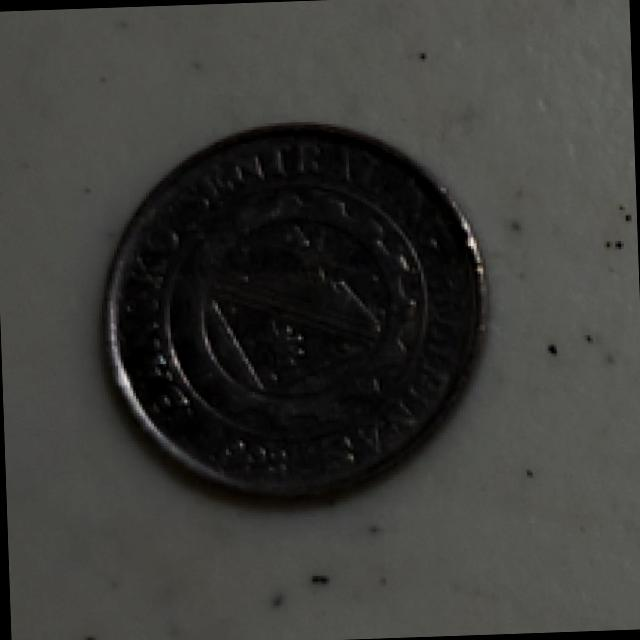1_peso: (106, 124, 484, 495)
